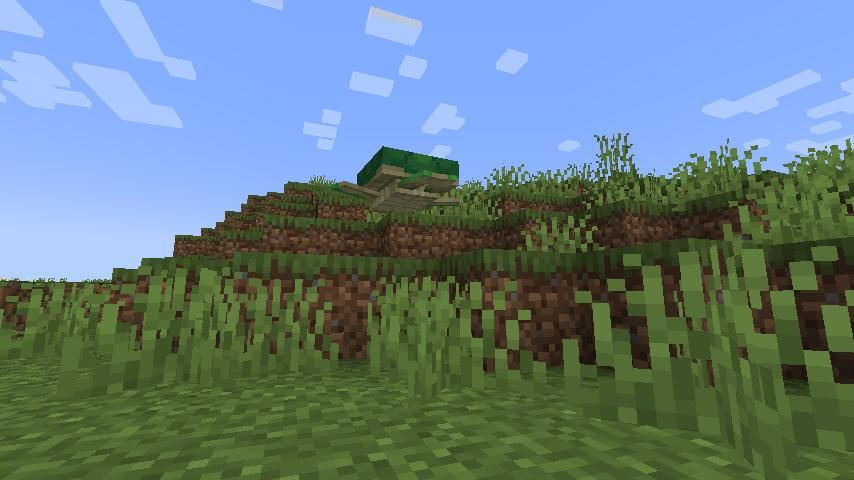turtle: (327, 142, 462, 217)
